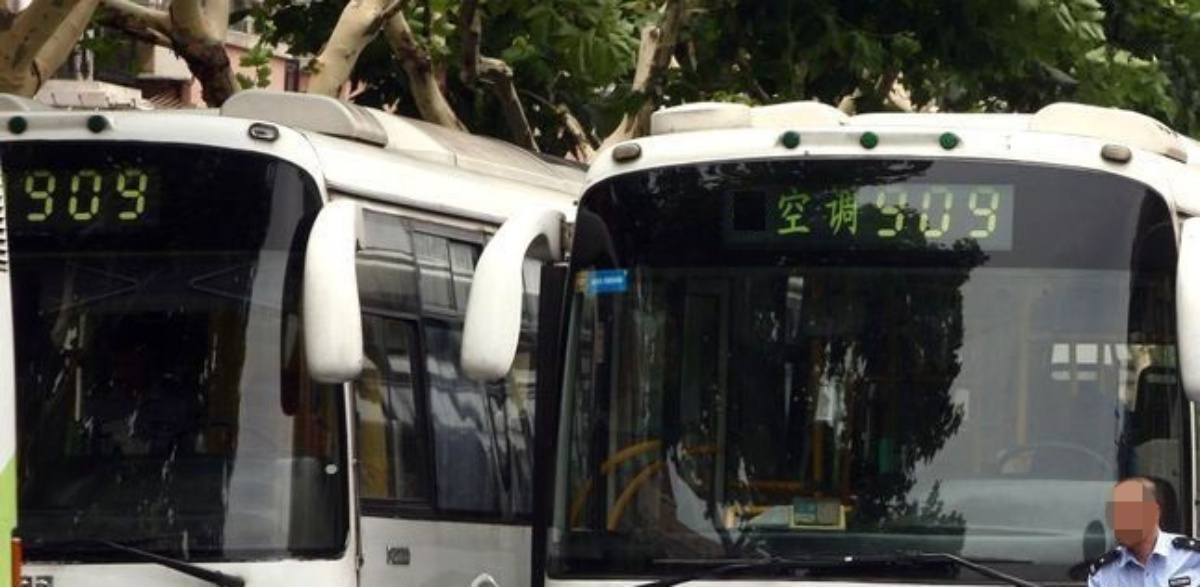text: (33, 166, 48, 225), (49, 166, 64, 225), (65, 166, 80, 225), (81, 166, 96, 225), (97, 166, 112, 225), (113, 166, 128, 225), (129, 166, 144, 225), (785, 183, 800, 238), (801, 183, 816, 238), (817, 183, 832, 238), (833, 183, 848, 238), (849, 183, 864, 238), (865, 183, 880, 238), (881, 183, 896, 238), (897, 183, 912, 238), (913, 183, 928, 238), (929, 183, 944, 238), (945, 183, 960, 238), (961, 183, 976, 238), (977, 183, 992, 238), (23, 166, 32, 225), (993, 183, 1002, 238), (145, 166, 149, 225), (781, 183, 784, 238)
